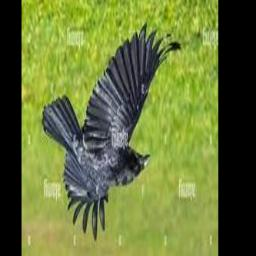Crow: (42, 23, 182, 240)
